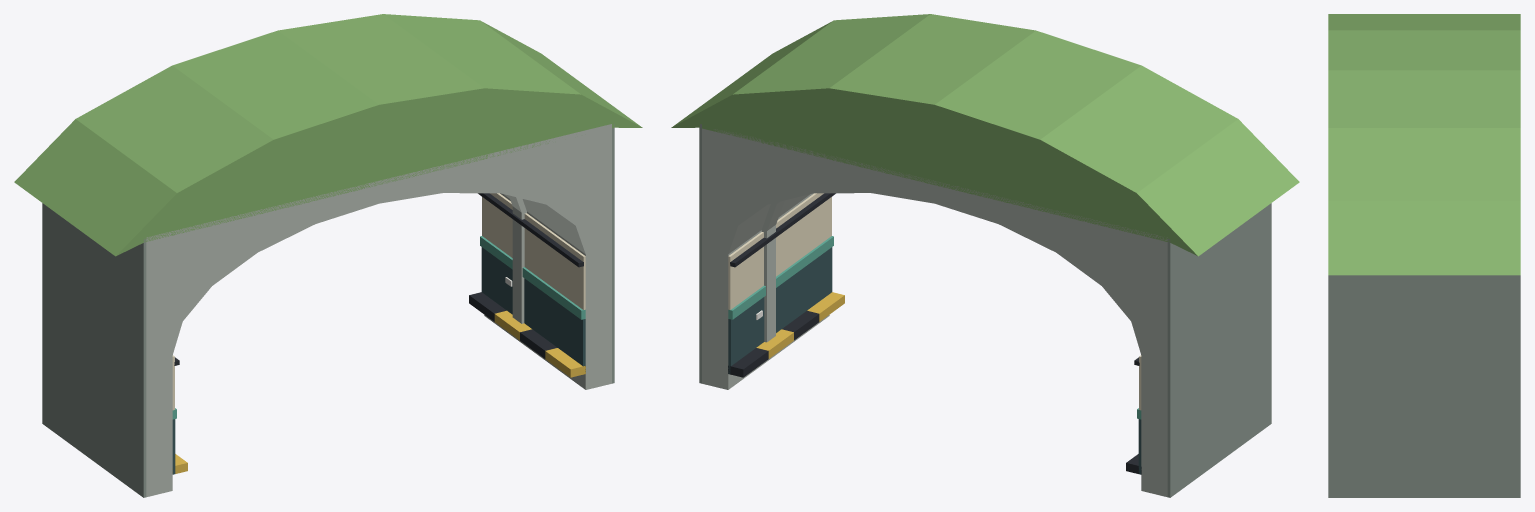
Rendered from sm_env_route_tunnel_module.glb.
3 renders of one model, left to right at view 1: azimuth 30°, elevation 25°; view 2: azimuth 150°, elevation 25°; view 3: azimuth 270°, elevation 25°, orthographic. The views are drawn at different scales.
Visible parts, largest first — view 1: Hump, TunnelShell, OuterStone, Tiles.001, Dado.001, Rib, Band.001, CableTray.001, OuterStone.001, Kerb.004; view 2: Hump, TunnelShell, OuterStone, Tiles.001, Dado.001, Rib, Band.001, CableTray.001, OuterStone.001, Kerb.007; view 3: Hump, OuterStone.001.
Part boxes in pixels (x1,y1,x2,y2): Hump: (14, 14, 642, 256); TunnelShell: (146, 124, 611, 497); OuterStone: (42, 203, 146, 497); Tiles.001: (482, 193, 585, 309); Dado.001: (481, 247, 585, 371); Rib: (508, 195, 526, 323); Band.001: (480, 236, 585, 319); CableTray.001: (478, 193, 583, 267); OuterStone.001: (612, 124, 614, 383); Kerb.004: (545, 348, 585, 377); Hump: (671, 14, 1299, 256); TunnelShell: (702, 128, 1167, 497); OuterStone: (1167, 203, 1271, 497); Tiles.001: (728, 193, 831, 309); Dado.001: (728, 247, 832, 373); Rib: (761, 200, 784, 342); Band.001: (728, 236, 833, 319); CableTray.001: (730, 193, 835, 267); OuterStone.001: (699, 124, 701, 383); Kerb.007: (728, 348, 768, 377); Hump: (1328, 14, 1520, 275); OuterStone.001: (1328, 275, 1520, 497).
Bounding box in the file's own units: 12 × 7.3 × 4.
